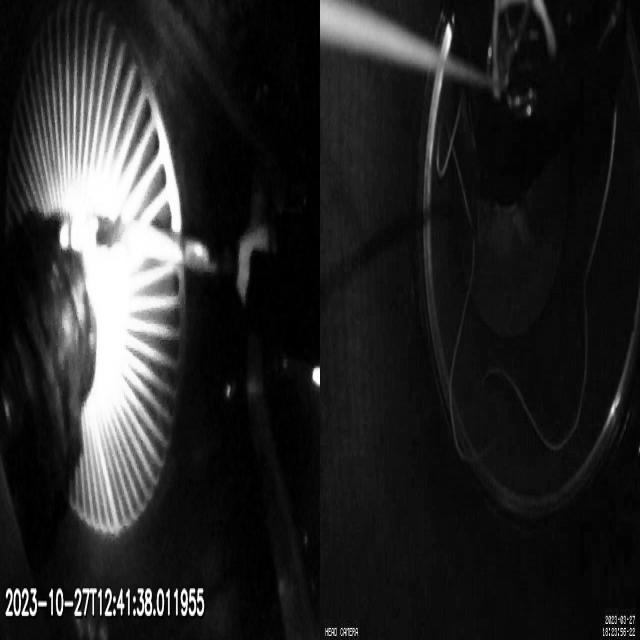head: (238, 228, 282, 298)
